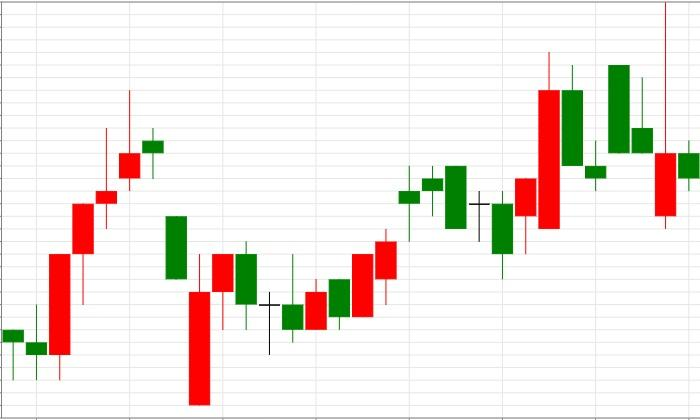shooting_star_fall: (49, 89, 140, 380)
